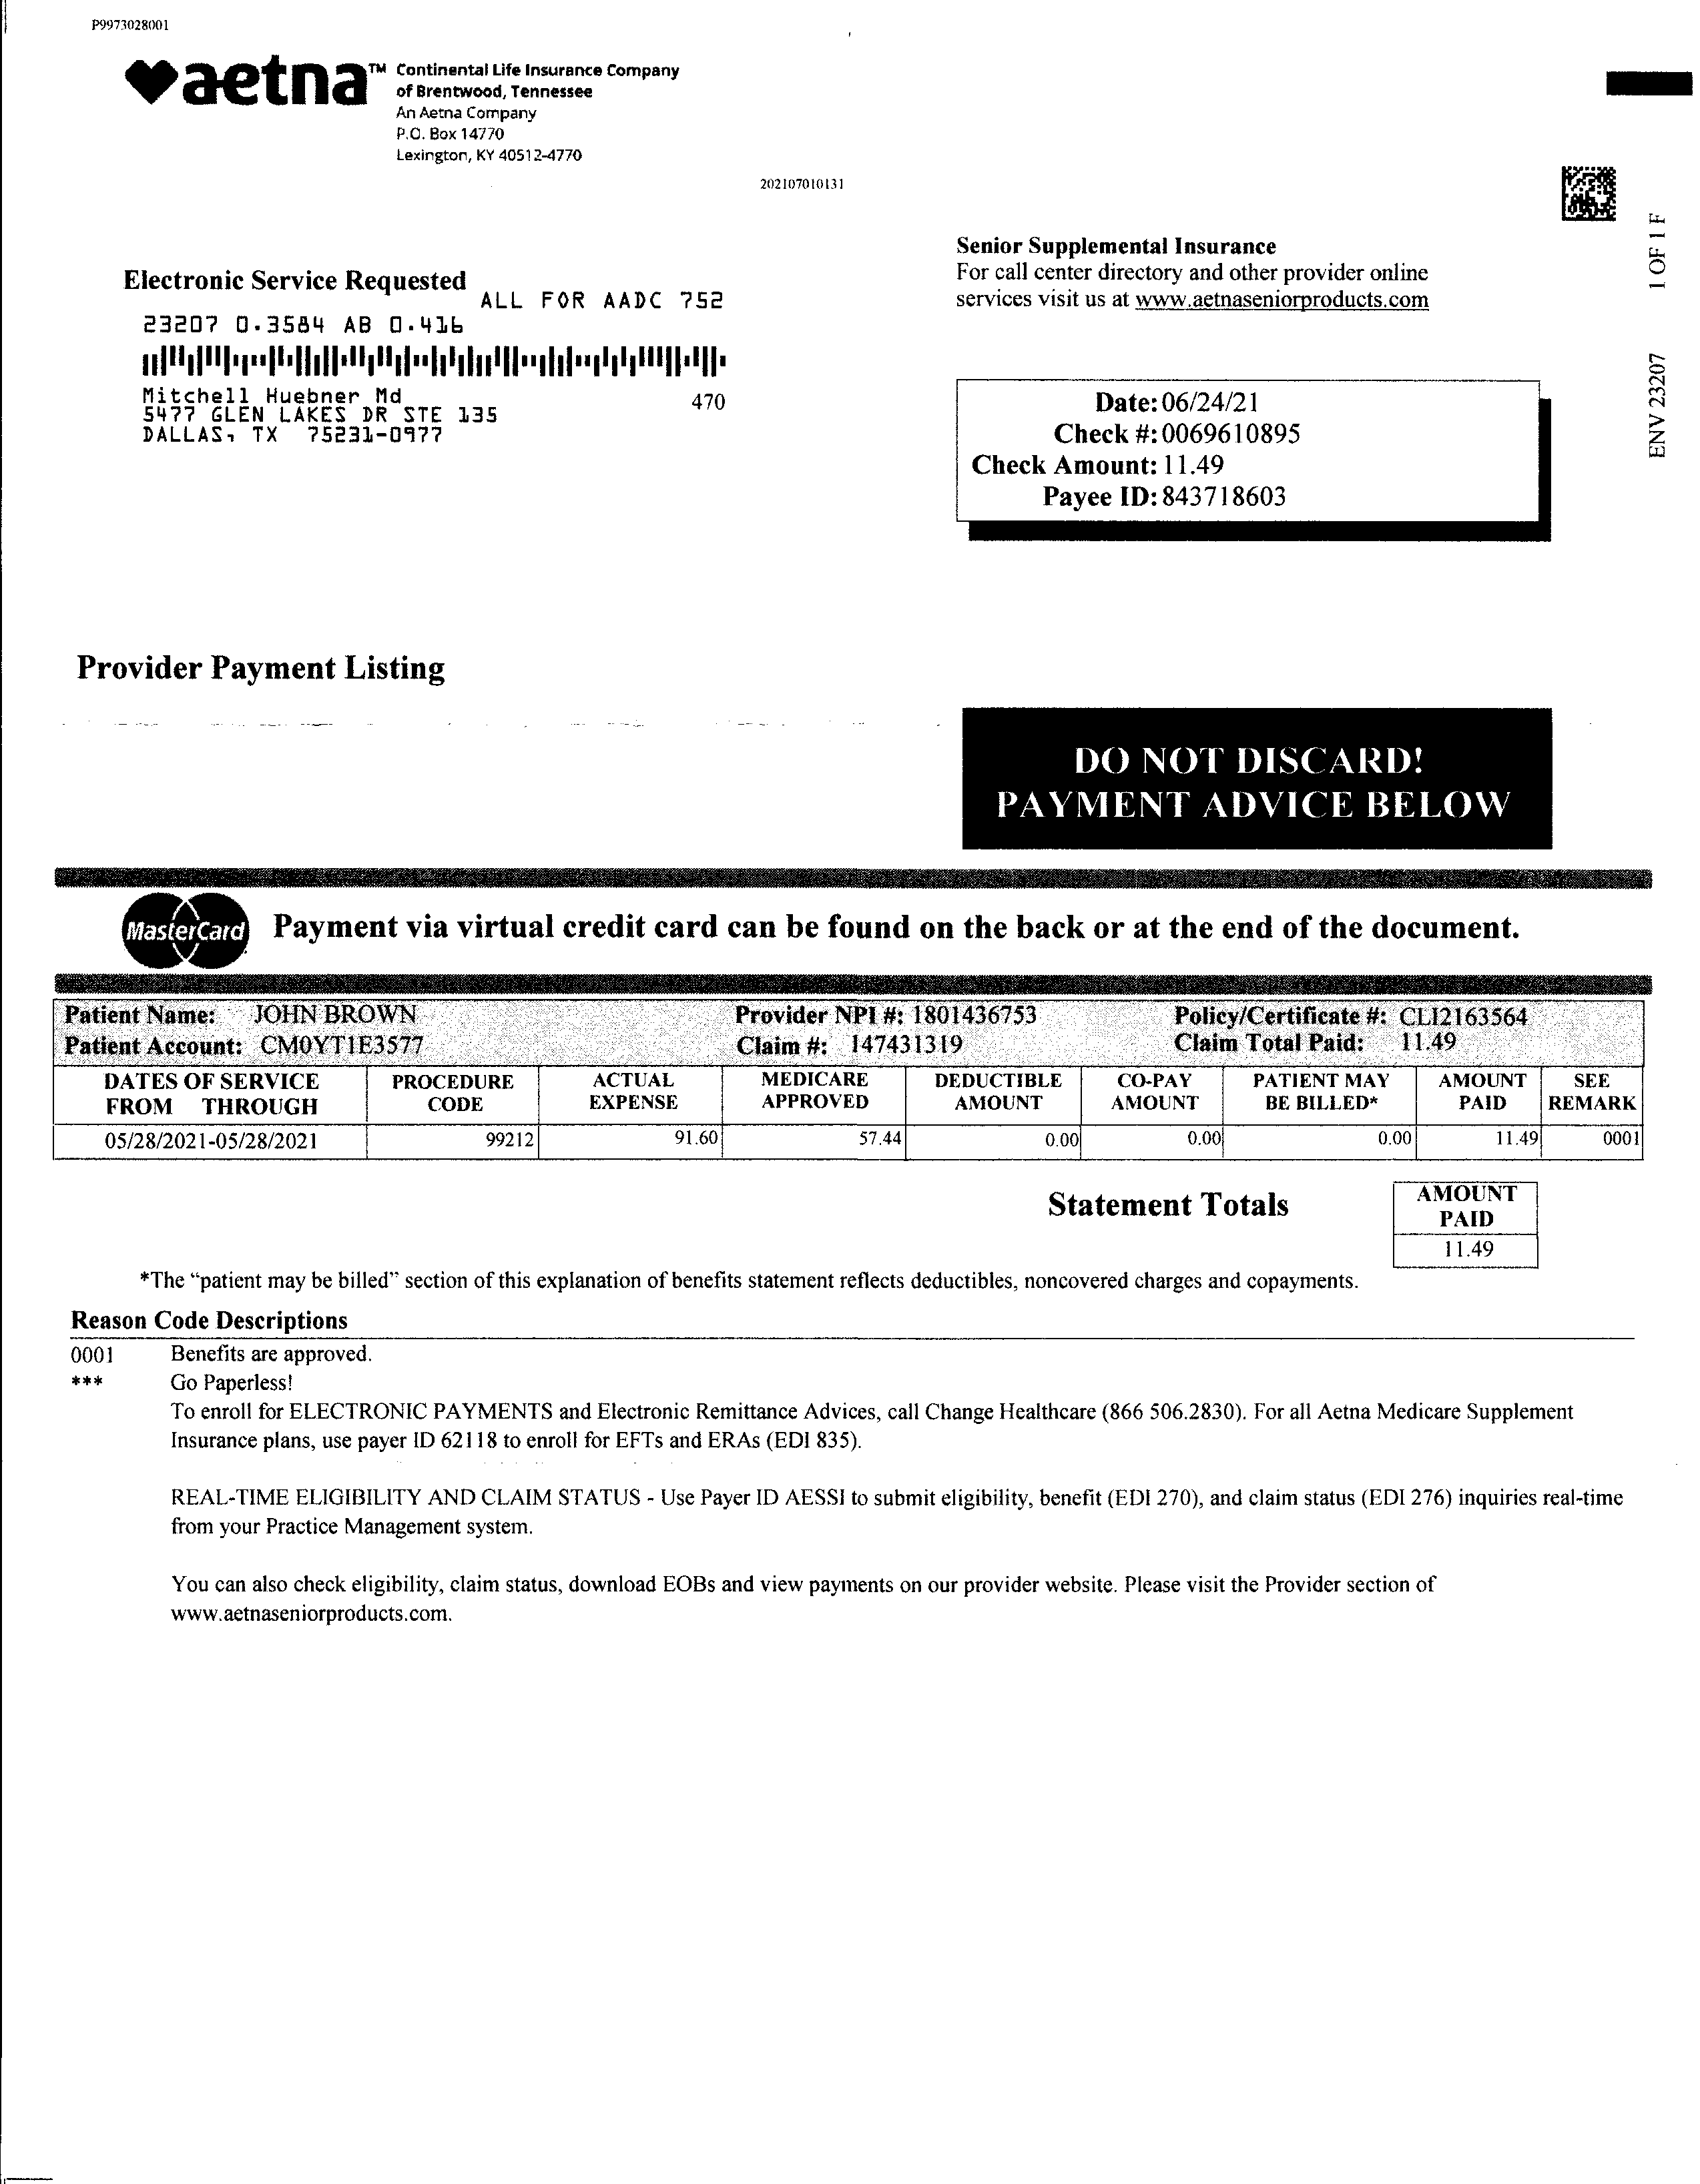data: (948, 358, 1562, 553)
table: (37, 991, 1659, 1179)
